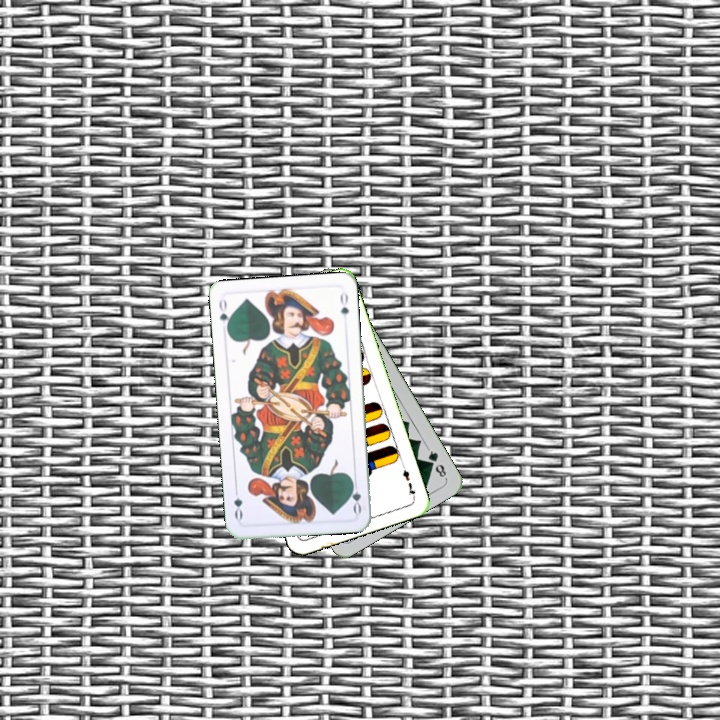E7: (398, 461, 419, 501)
G8: (423, 444, 449, 481)
GO: (215, 295, 233, 336), (347, 475, 364, 516)
